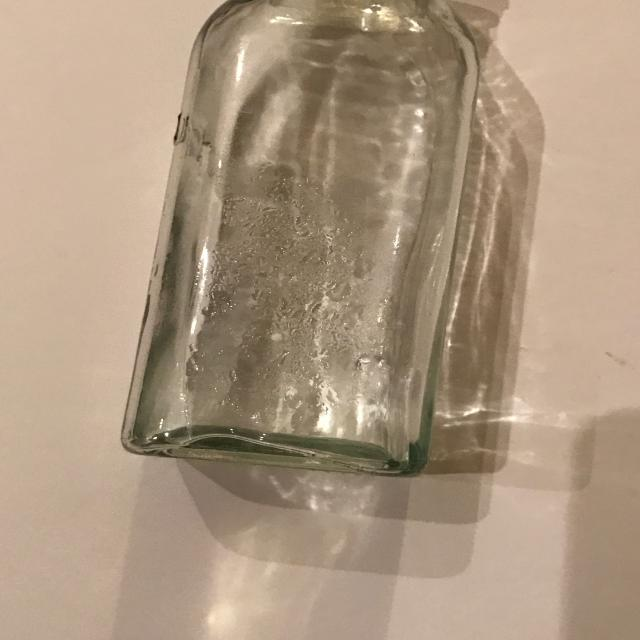Glass: (91, 0, 559, 522)
